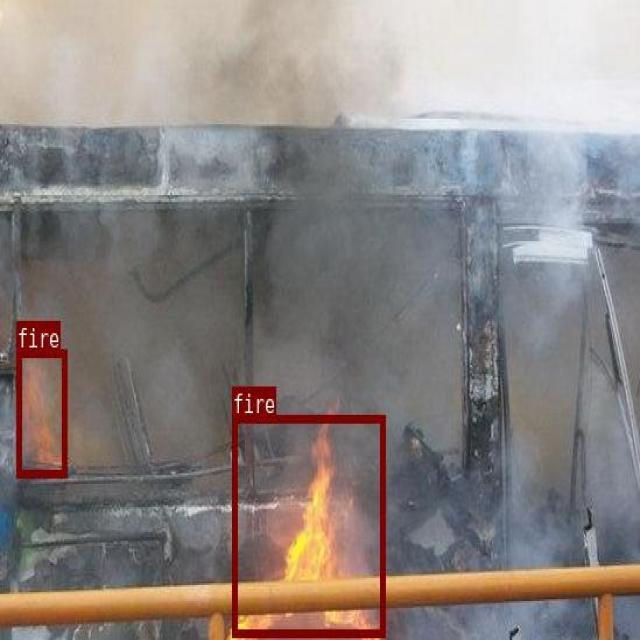fire: (231, 413, 383, 635), (15, 347, 65, 476)
